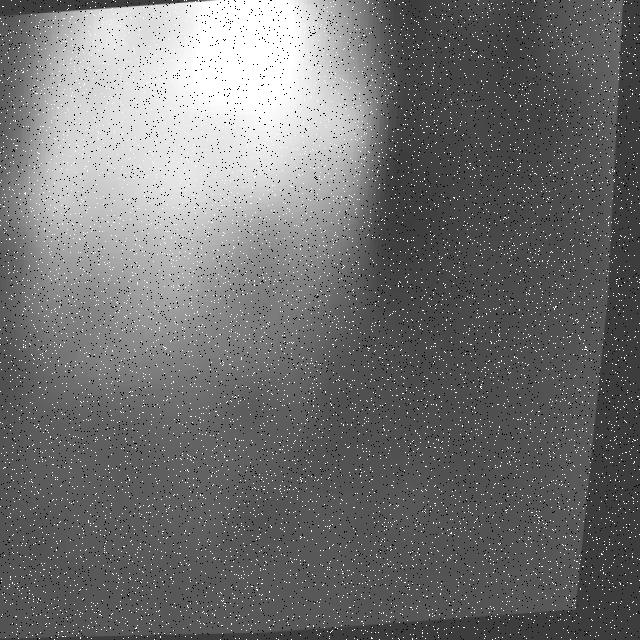person: (16, 1, 391, 473)
